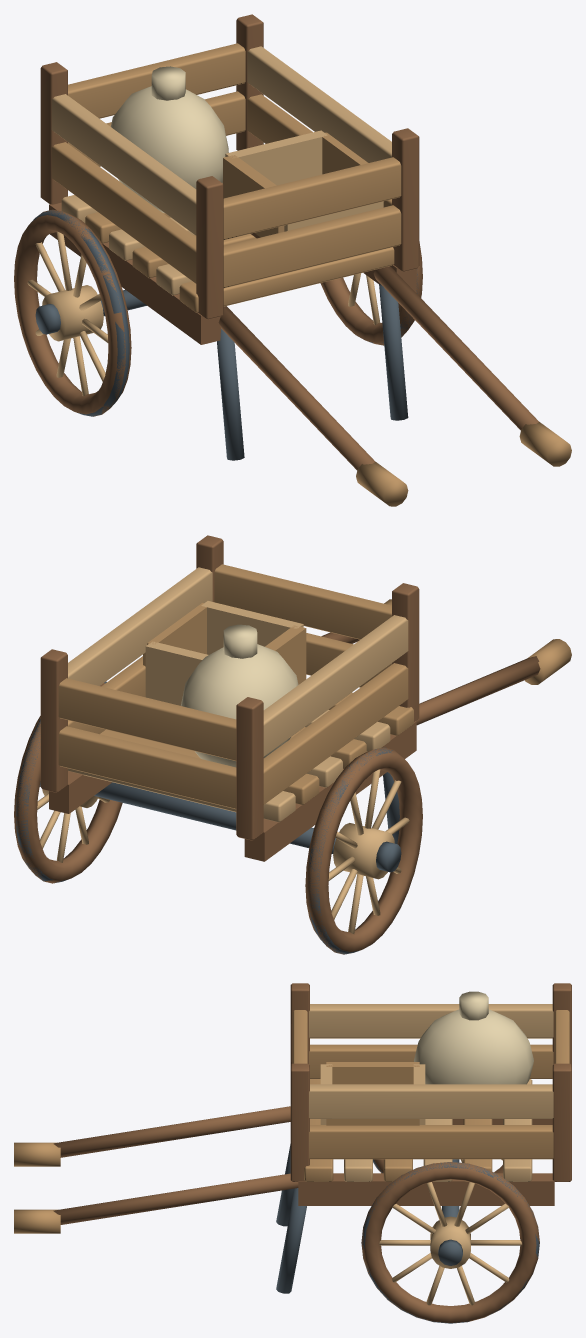
The model's file is cart.glb.
3 views of the same model, one above another, from view 1: azimuth 30°, elevation 25°; view 2: azimuth 150°, elevation 25°; view 3: azimuth 270°, elevation 25° (orthographic). The views are drawn at different scales.
Visible parts, largest first — view 1: move_spin_wheel_left, Cart end plank, Cart end plank.001, Loaded flour sack, Cart side plank, Cart side plank.001, Cart side plank.003, Cart end plank.003, Handcart long shaft.001, Handcart long shaft, Cart corner upright, Cart floor plank (+21 smaller); view 2: move_spin_wheel_left, Cart end plank.002, Cart end plank.003, Cart end plank.001, Cart side plank, Cart side plank.001, Loaded flour sack, Cart side plank.003, move_spin_wheel_right, Cart corner upright.001, Cart undercarriage runner, Cart corner upright.003 (+21 smaller); view 3: move_spin_wheel_right, Cart side plank.002, Cart side plank.003, Loaded flour sack, Cart side plank.001, Cart undercarriage runner.001, Handcart long shaft.001, Handcart long shaft, Cart side plank, Cart corner upright.003, Cart corner upright.002, Cargo crate side (+15 smaller).
Boxes of the visible parts, bbox=[...] form: move_spin_wheel_left: bbox=[14, 209, 131, 416]; Cart end plank: bbox=[223, 205, 401, 288]; Cart end plank.001: bbox=[223, 157, 401, 239]; Loaded flour sack: bbox=[111, 86, 228, 213]; Cart side plank: bbox=[51, 142, 196, 283]; Cart side plank.001: bbox=[51, 94, 196, 235]; Cart side plank.003: bbox=[247, 46, 391, 162]; Cart end plank.003: bbox=[68, 43, 245, 118]; Handcart long shaft.001: bbox=[373, 266, 538, 430]; Handcart long shaft: bbox=[218, 306, 375, 470]; Cart corner upright: bbox=[196, 176, 223, 319]; Cart floor plank: bbox=[179, 247, 394, 312]; move_spin_wheel_left: bbox=[305, 747, 422, 954]; Cart end plank.002: bbox=[58, 726, 236, 809]; Cart end plank.003: bbox=[58, 678, 236, 760]; Cart end plank.001: bbox=[214, 564, 391, 639]; Cart side plank: bbox=[263, 663, 408, 804]; Cart side plank.001: bbox=[263, 615, 408, 756]; Loaded flour sack: bbox=[181, 644, 298, 767]; Cart side plank.003: bbox=[68, 567, 212, 685]; move_spin_wheel_right: bbox=[14, 681, 122, 883]; Cart corner upright.001: bbox=[236, 697, 263, 840]; Cart undercarriage runner: bbox=[244, 721, 416, 861]; Cart corner upright.003: bbox=[40, 649, 67, 792]; move_spin_wheel_right: bbox=[361, 1162, 539, 1323]; Cart side plank.002: bbox=[309, 1125, 553, 1159]; Cart side plank.003: bbox=[309, 1084, 553, 1118]; Loaded flour sack: bbox=[414, 1009, 533, 1084]; Cart side plank.001: bbox=[309, 1004, 553, 1038]; Cart undercarriage runner.001: bbox=[298, 1173, 554, 1205]; Handcart long shaft.001: bbox=[53, 1173, 298, 1224]; Handcart long shaft: bbox=[53, 1106, 290, 1157]; Cart side plank: bbox=[309, 1044, 553, 1078]; Cart corner upright.003: bbox=[552, 1063, 571, 1181]; Cart corner upright.002: bbox=[290, 1063, 309, 1181]; Cargo crate side: bbox=[326, 1062, 419, 1084].
Size of the model in its own units: 1.76 by 1.43 by 2.88.
